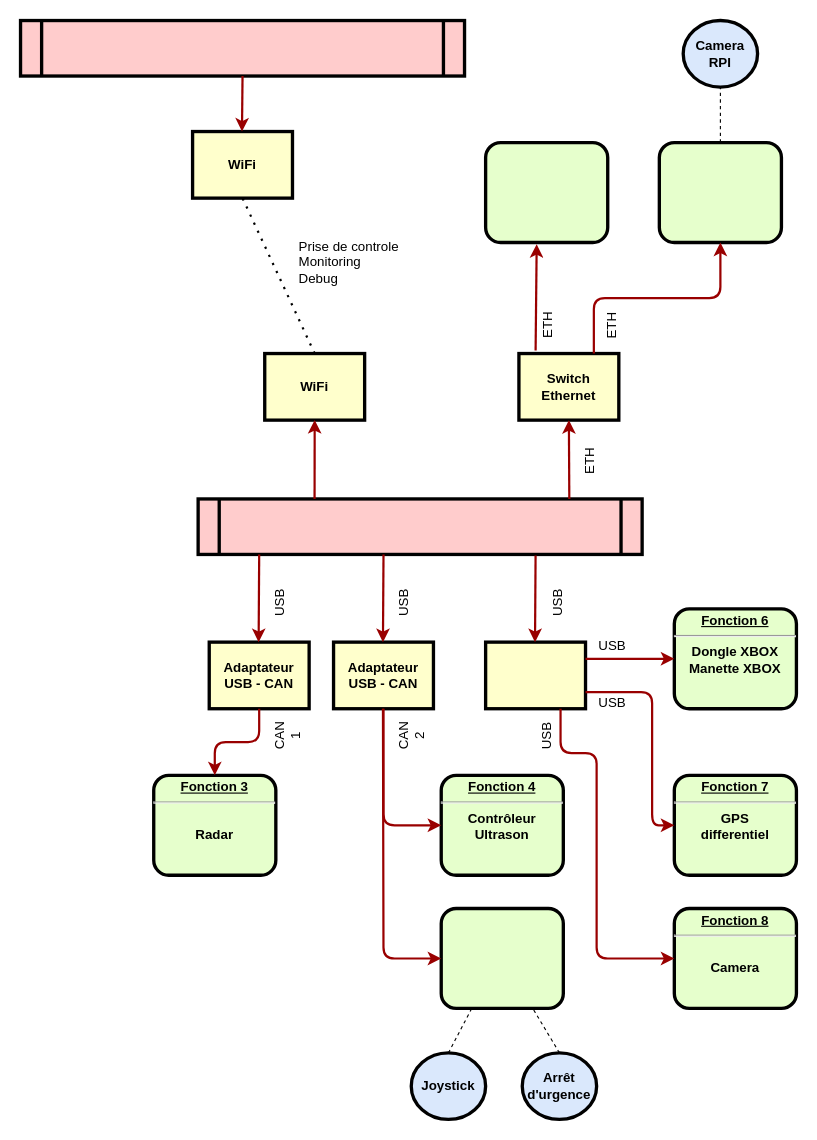
Some shapes in this 817 by 1140 pixel diagram are drawn without their labels. Each missing label, with the centre of its shape:
"Fonction 1 LIDAR" belongs at pixel 546 192.
"Fonction 2 JETSON" belongs at pixel 720 192.
"Fonction 5 Moteur Direction Frein IMU" belongs at pixel 501 958.
"Hub USB" belongs at pixel 535 675.
"PC portable (sol)" belongs at pixel 242 47.
"PC portable avec carte GTX (embarqué)" belongs at pixel 419 526.
